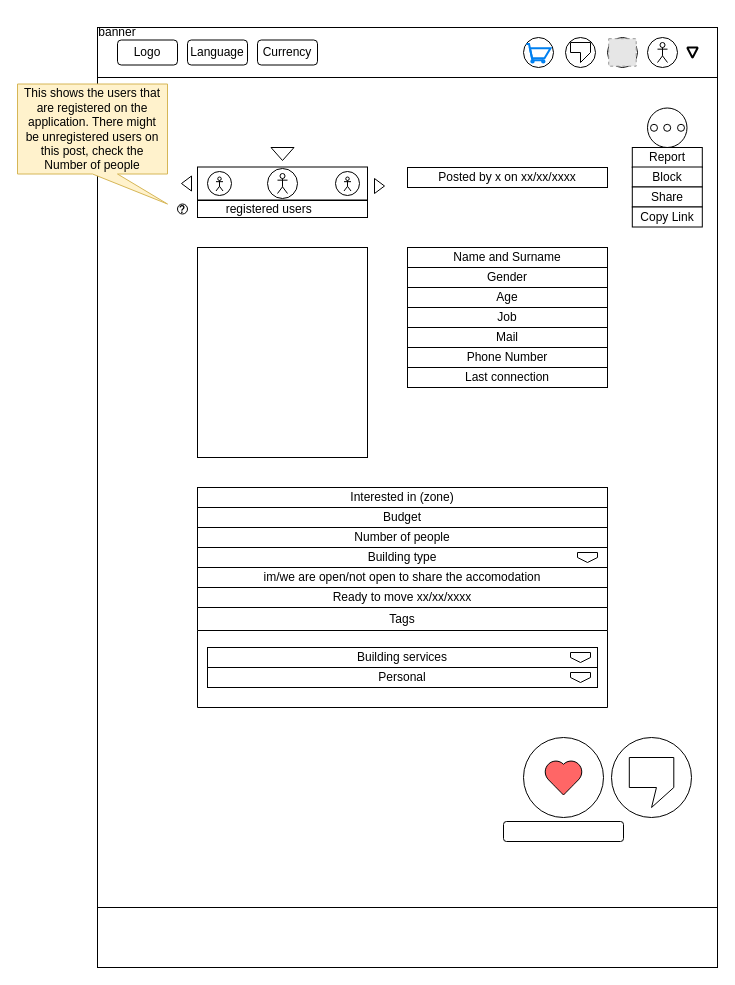
This 735x985 diagram has some shape labels left out. Grey dashed boxes stand in for pictures. Each missing label, with the centre of its shape:
14 users liked this post: (x=563, y=831)
footpage: (x=407, y=937)
Linked people Images: (x=282, y=352)
